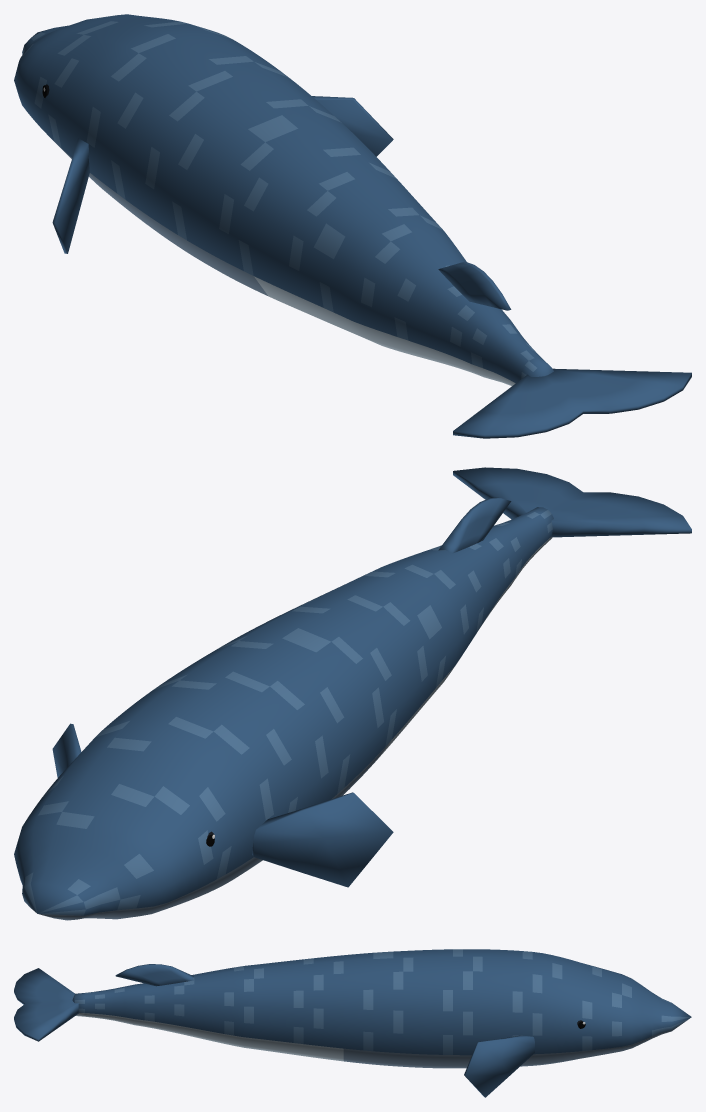
Rendered from blue_whale.glb.
3 views of the same model, one above another, from view 1: azimuth 30°, elevation 25°; view 2: azimuth 150°, elevation 25°; view 3: azimuth 270°, elevation 25° (orthographic). The views are drawn at different scales.
Visible parts, largest first — view 1: blue_whale; view 2: blue_whale; view 3: blue_whale.
Boxes of the visible parts, bbox=[...] form: blue_whale: bbox=[14, 14, 691, 438]; blue_whale: bbox=[14, 467, 691, 920]; blue_whale: bbox=[14, 949, 691, 1097].
Size of the model in its own units: 1.07 by 0.5123 by 3.01.
